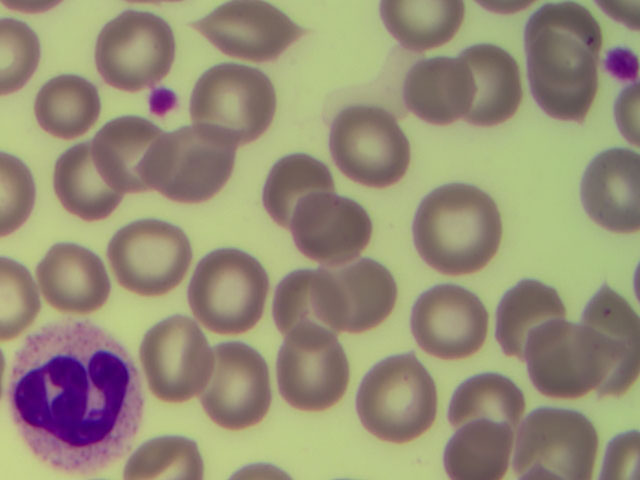Platelets: (606, 47, 640, 84), (143, 84, 181, 115)
RBC: (90, 9, 174, 84), (23, 62, 107, 137), (38, 142, 122, 217), (81, 113, 165, 188), (146, 124, 230, 199), (190, 63, 274, 138), (328, 107, 412, 182), (254, 141, 338, 216), (287, 190, 371, 265), (318, 257, 402, 332), (266, 262, 350, 337), (269, 335, 353, 410), (197, 347, 281, 422), (127, 320, 211, 395), (184, 254, 268, 329), (108, 214, 192, 289), (30, 241, 114, 316), (415, 193, 499, 268), (394, 58, 478, 133), (441, 44, 525, 119), (517, 52, 601, 127), (521, 8, 605, 83), (485, 271, 569, 346), (404, 283, 488, 358), (356, 357, 440, 432), (446, 357, 530, 432), (437, 405, 521, 480), (519, 405, 603, 480), (525, 327, 609, 402), (207, 1, 291, 75), (577, 151, 640, 243)
WBC: (8, 326, 147, 470)
